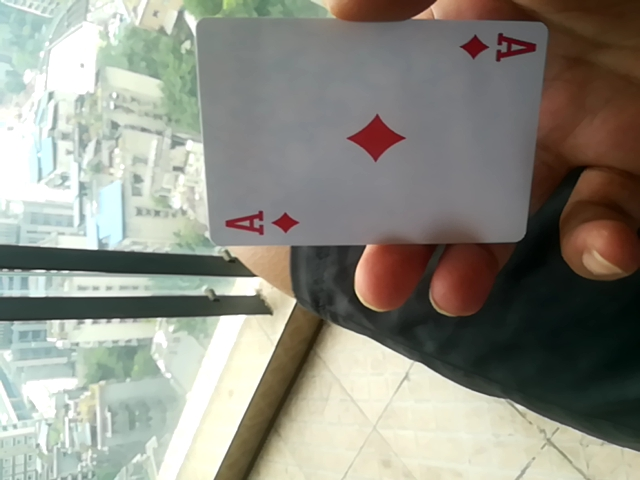fk a: (195, 15, 549, 252)
